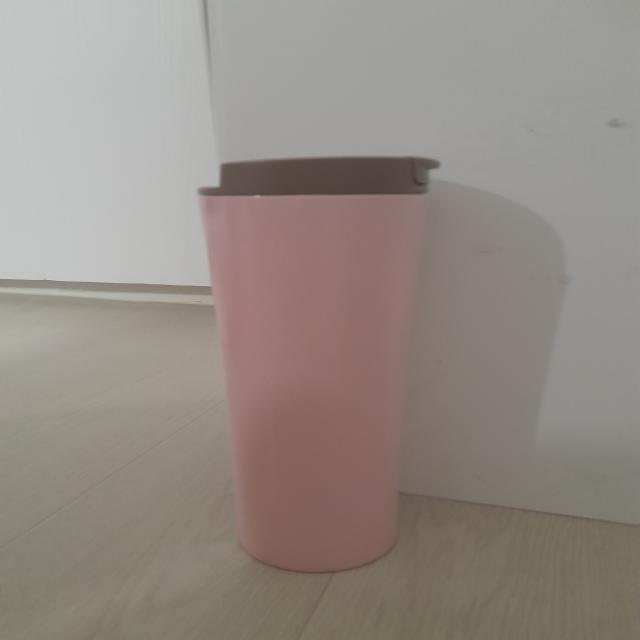waterbottle: (200, 157, 440, 570)
